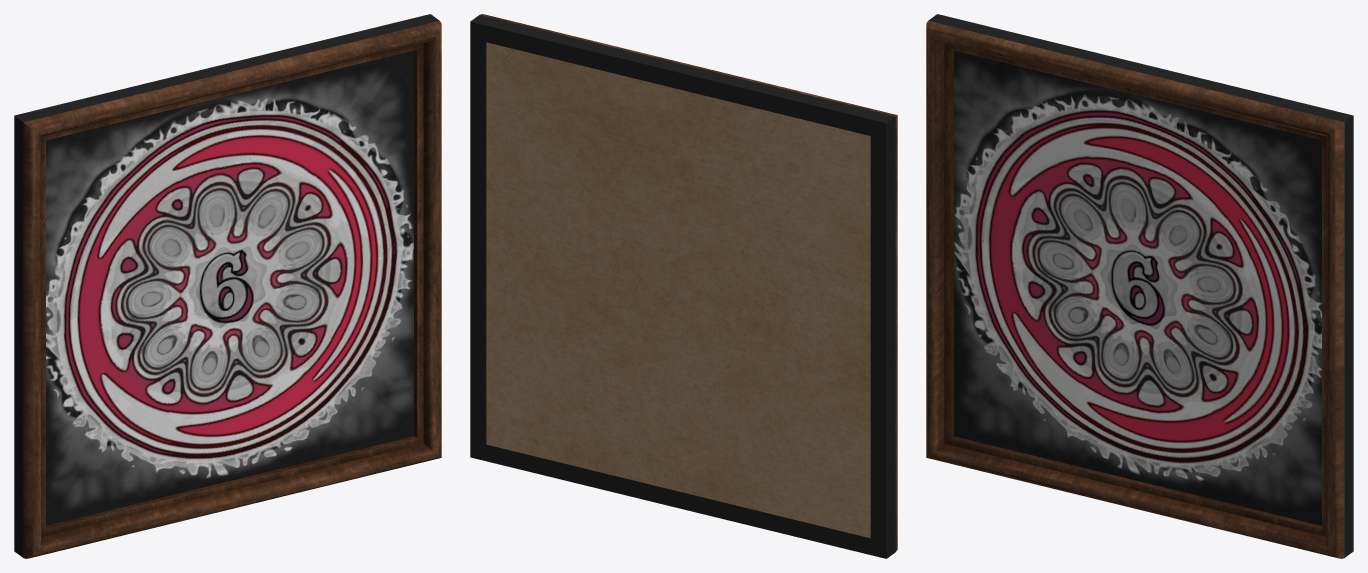
The picture shows the model from 3 angles, left to right: view 1: azimuth 30°, elevation 25°; view 2: azimuth 150°, elevation 25°; view 3: azimuth 330°, elevation 25°; orthographic projection.
Visible parts, largest first — view 1: Object_6, Object_5, Object_4, Object_3; view 2: Object_2, Object_3, Object_5; view 3: Object_6, Object_5, Object_4, Object_3.
Part boxes in pixels (bbox=[...]): Object_6: bbox=[46, 50, 413, 525]; Object_5: bbox=[23, 21, 441, 558]; Object_4: bbox=[41, 43, 423, 536]; Object_3: bbox=[14, 14, 439, 557]; Object_2: bbox=[486, 42, 870, 538]; Object_3: bbox=[470, 15, 895, 558]; Object_5: bbox=[480, 14, 897, 551]; Object_6: bbox=[954, 50, 1321, 525]; Object_5: bbox=[926, 21, 1344, 558]; Object_4: bbox=[944, 43, 1326, 536]; Object_3: bbox=[928, 14, 1353, 557].
Bounding box in the file's own units: 6.5 × 6.5 × 0.4.
5 materials, 5 textured.
